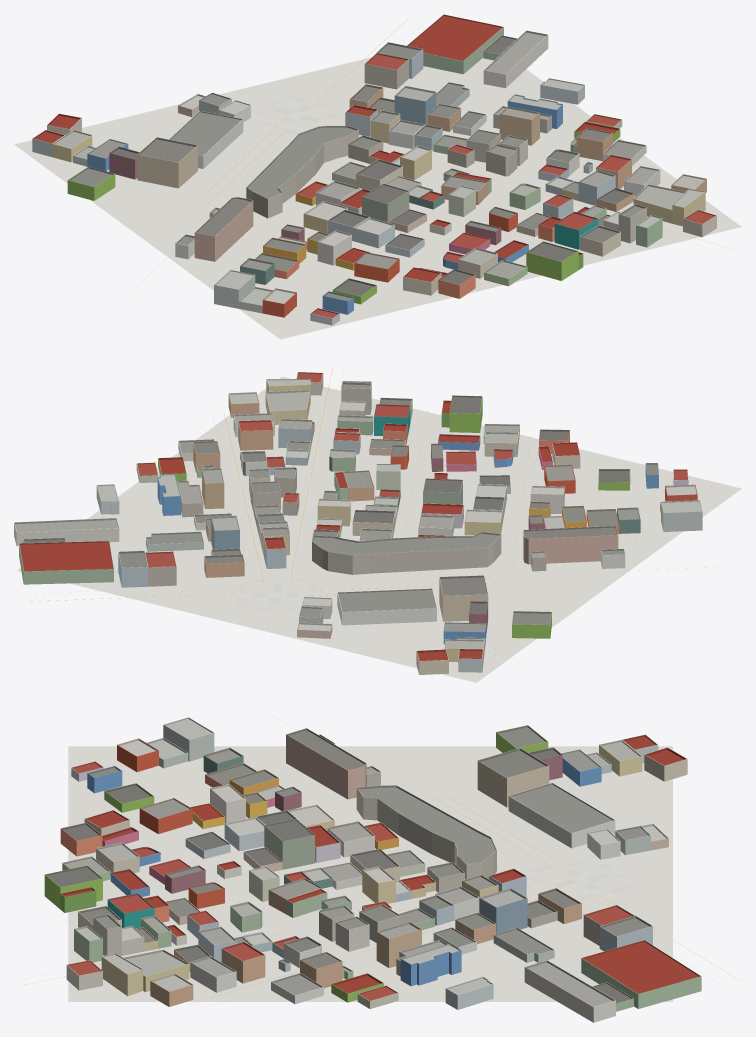
3 renders of one model, top to bottom at view 1: azimuth 30°, elevation 25°; view 2: azimuth 150°, elevation 25°; view 3: azimuth 270°, elevation 25°, orthographic. The views are drawn at different scales.
Visible parts, largest first — view 1: ground, walls, roofs, markings; view 2: ground, roofs, walls, markings; view 3: walls, roofs, ground, markings.
Part boxes in pixels (box(x1,y1,x2,y2)): ground: box(14, 57, 741, 339); walls: box(32, 27, 716, 325); roofs: box(32, 14, 716, 318); markings: box(39, 19, 733, 329); ground: box(17, 376, 741, 682); roofs: box(14, 372, 702, 661); walls: box(14, 374, 702, 674); markings: box(23, 368, 716, 668); walls: box(44, 725, 701, 1022); roofs: box(45, 717, 700, 1007); ground: box(68, 746, 672, 1001); markings: box(14, 711, 740, 1009).
Size of what is drawn, in the model's own units: 305 by 13.4 by 301.
